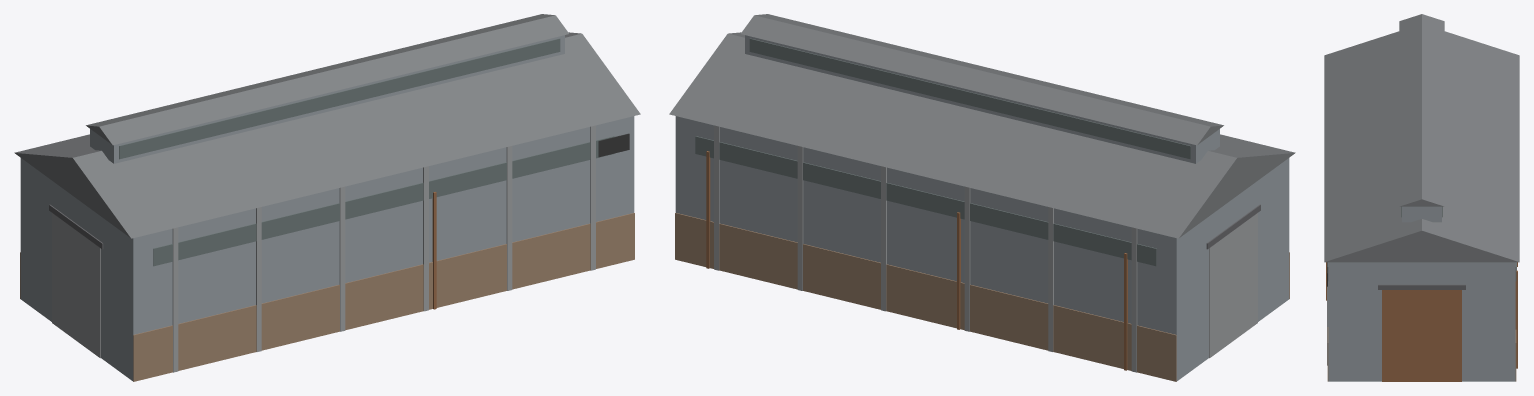
The model's file is MillShedLong.glb.
3 renders of one model, left to right at view 1: azimuth 30°, elevation 25°; view 2: azimuth 150°, elevation 25°; view 3: azimuth 270°, elevation 25°, orthographic. The views are drawn at different scales.
Visible parts, largest first — view 1: Shed walls, Shed roof, Rust band, Monitor roof, Clerestory, Monitor glazing.001, Bay door, Monitor, Column, Column.002, Column.004, Column.005 (+4 smaller); view 2: Shed walls, Shed roof, Rust band.001, Monitor roof, Clerestory.001, Monitor glazing, Bay door, Monitor, Column.006, Column.008, Column.010, Column.011 (+3 smaller); view 3: Shed roof, Shed walls, Monitor roof, Bay door.001, Monitor, Door header.001, Downpipe.003.
Part boxes in pixels (x1,y1,x2,y2): Shed walls: (20, 116, 634, 381); Shed roof: (14, 32, 640, 238); Rust band: (133, 213, 634, 381); Monitor roof: (86, 14, 568, 145); Clerestory: (153, 136, 614, 266); Monitor glazing.001: (119, 38, 560, 159); Bay door: (52, 213, 100, 358); Monitor: (90, 35, 564, 163); Column: (172, 227, 178, 372); Column.002: (339, 186, 345, 331); Column.004: (506, 146, 512, 290); Column.005: (590, 125, 595, 270); Shed walls: (675, 116, 1289, 381); Shed roof: (669, 32, 1295, 238); Rust band.001: (675, 213, 1176, 381); Monitor roof: (741, 14, 1223, 145); Clerestory.001: (695, 136, 1156, 266); Monitor glazing: (749, 38, 1190, 159); Bay door: (1209, 213, 1257, 358); Monitor: (745, 35, 1219, 163); Column.006: (1131, 227, 1137, 372); Column.008: (964, 186, 970, 331); Column.010: (797, 146, 803, 290); Column.011: (714, 125, 719, 270); Shed roof: (1324, 31, 1519, 262); Shed walls: (1328, 262, 1515, 381); Monitor roof: (1399, 14, 1444, 206); Bay door.001: (1382, 290, 1461, 381); Monitor: (1402, 206, 1441, 222); Door header.001: (1378, 284, 1465, 289); Downpipe.003: (1515, 270, 1517, 368).
Size of the model in its own units: 36.6 by 14.3 by 14.6.
